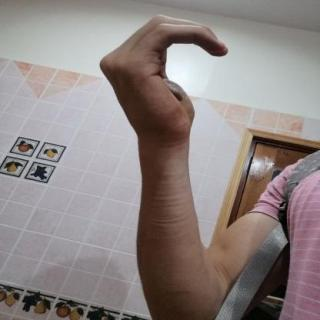HAA: (88, 8, 243, 154)
